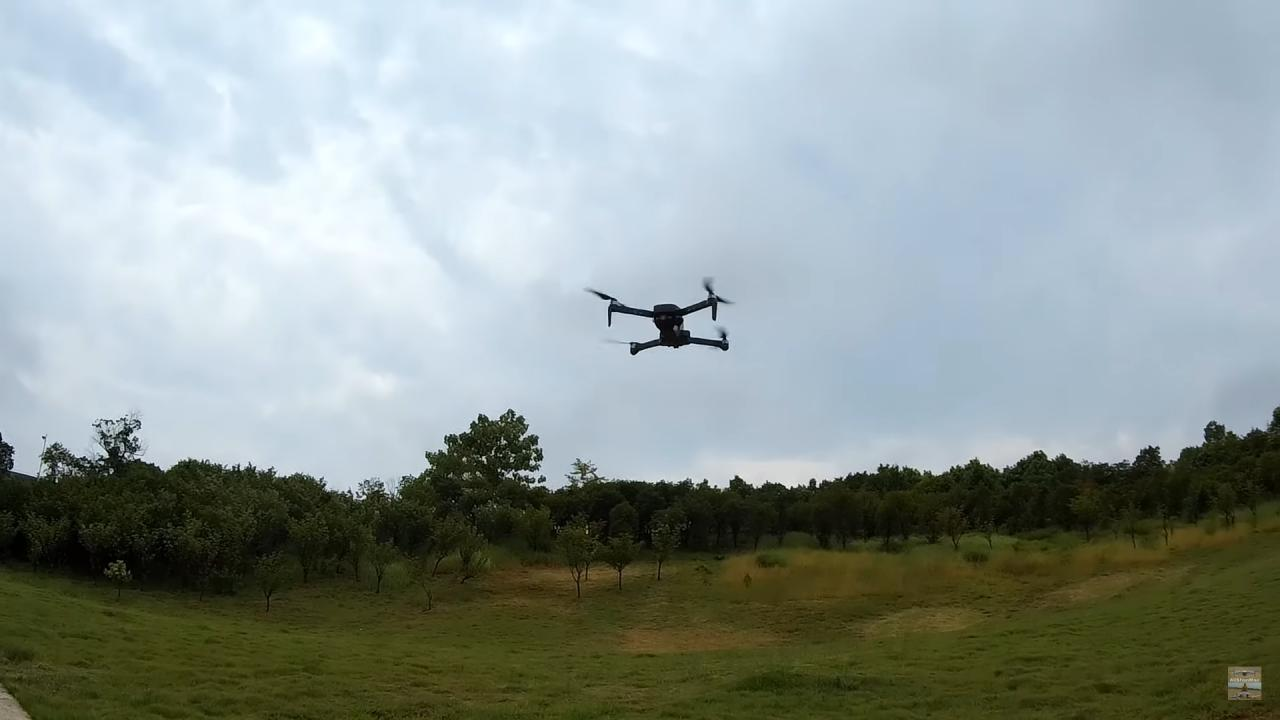Drone: (575, 265, 752, 367)
